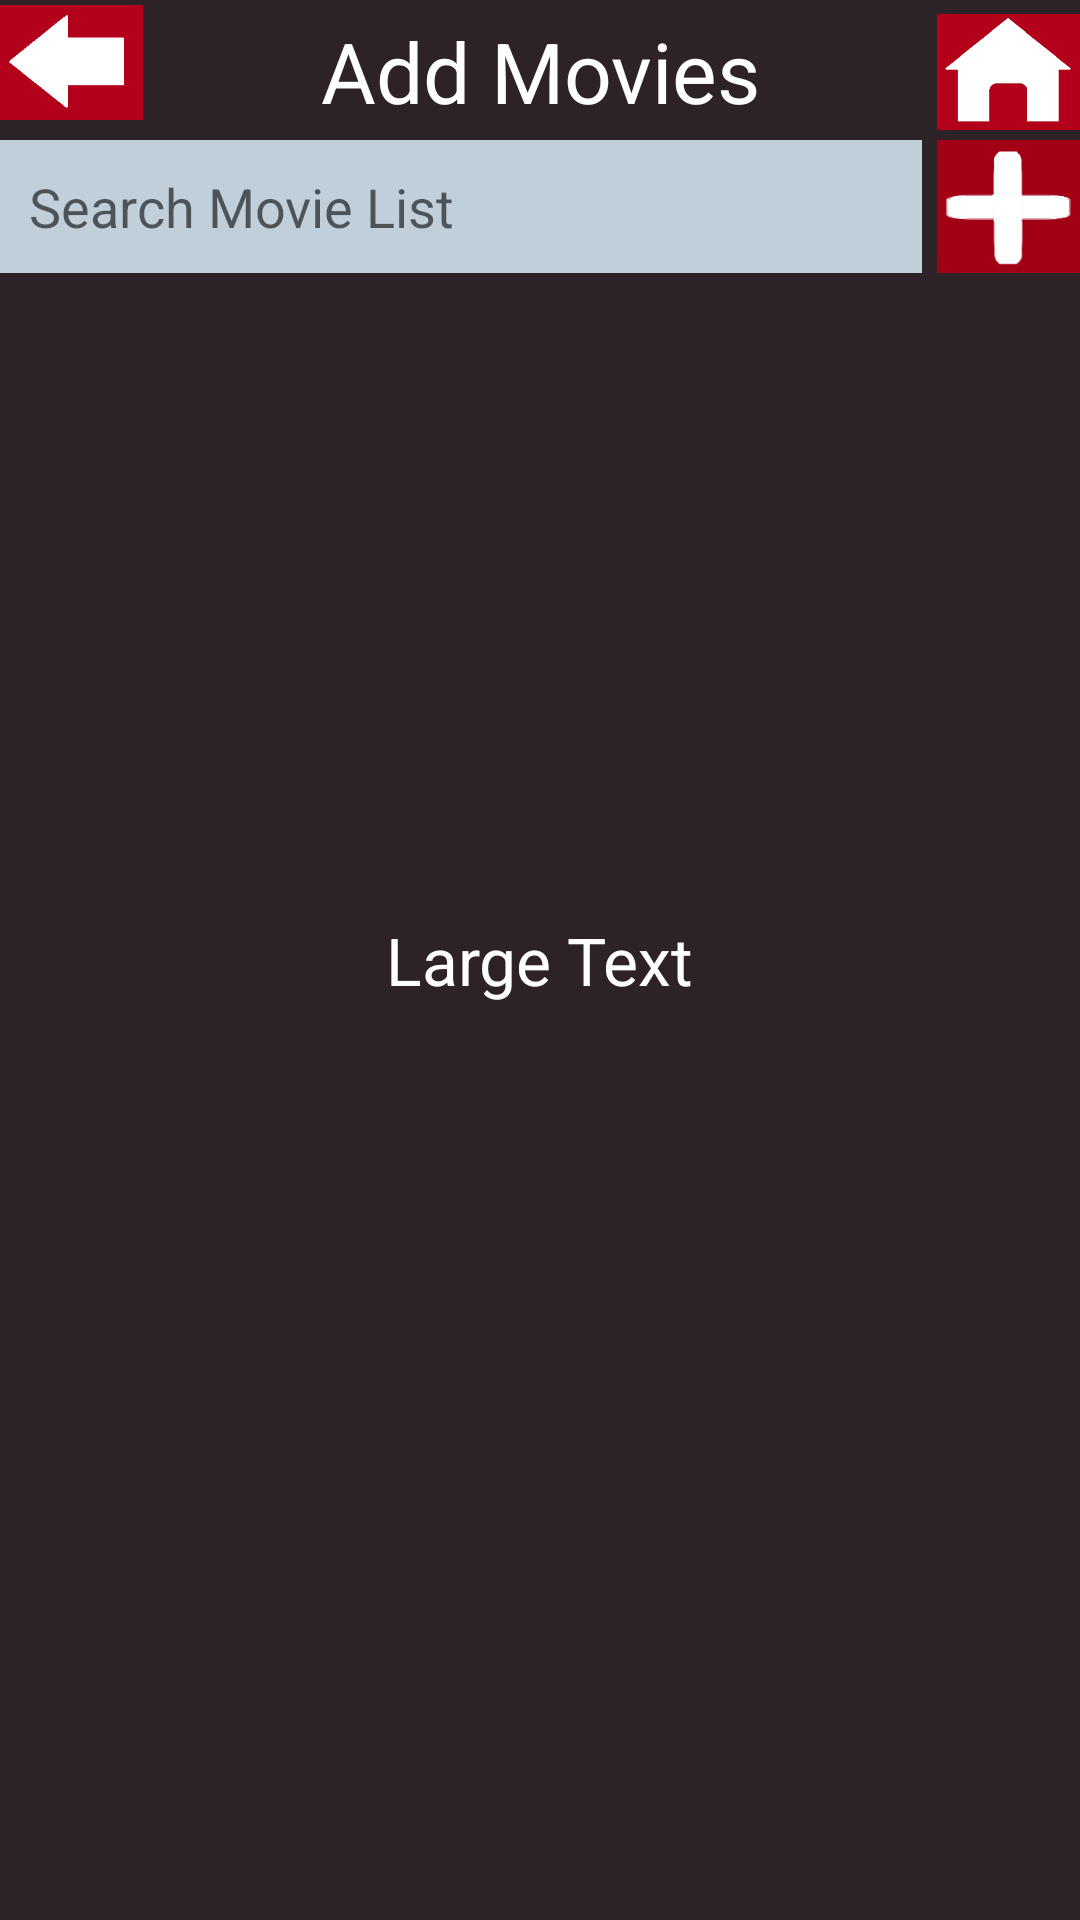

Point at icon controls on the screen. Image size 1080*1920, points as [x,y].
back: [71,62]
home: [1008,72]
